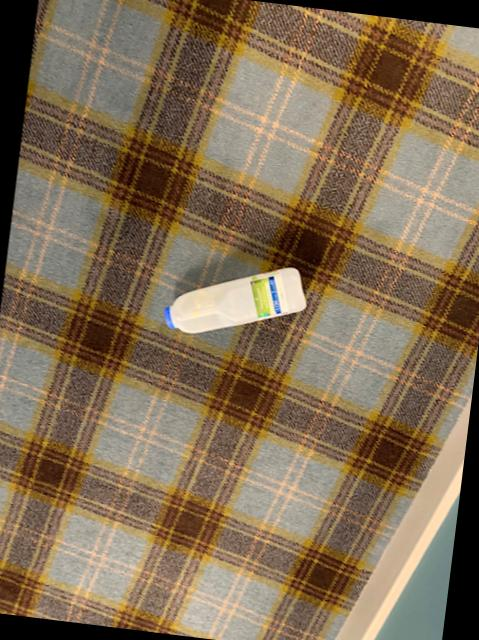plastic: (165, 268, 306, 333)
